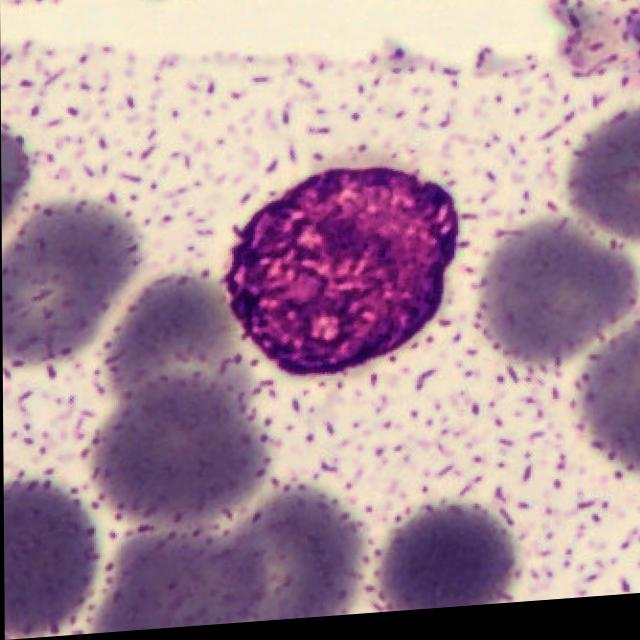Restos celulares: (220, 174, 458, 381)
